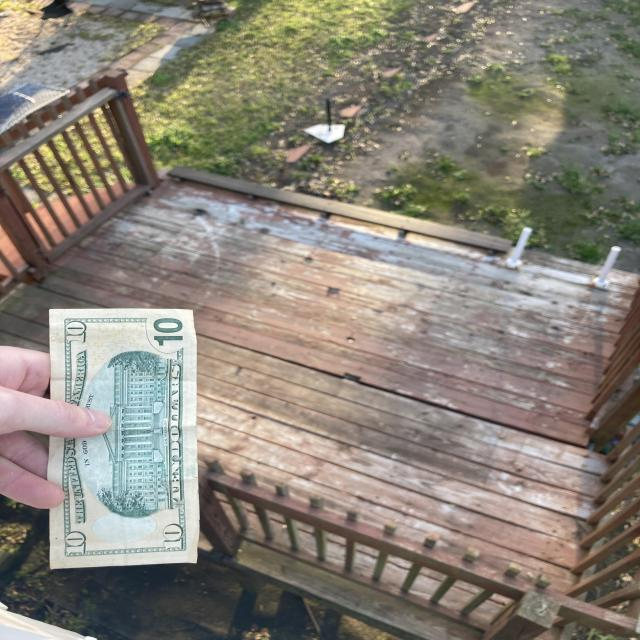ten: (49, 310, 198, 567)
